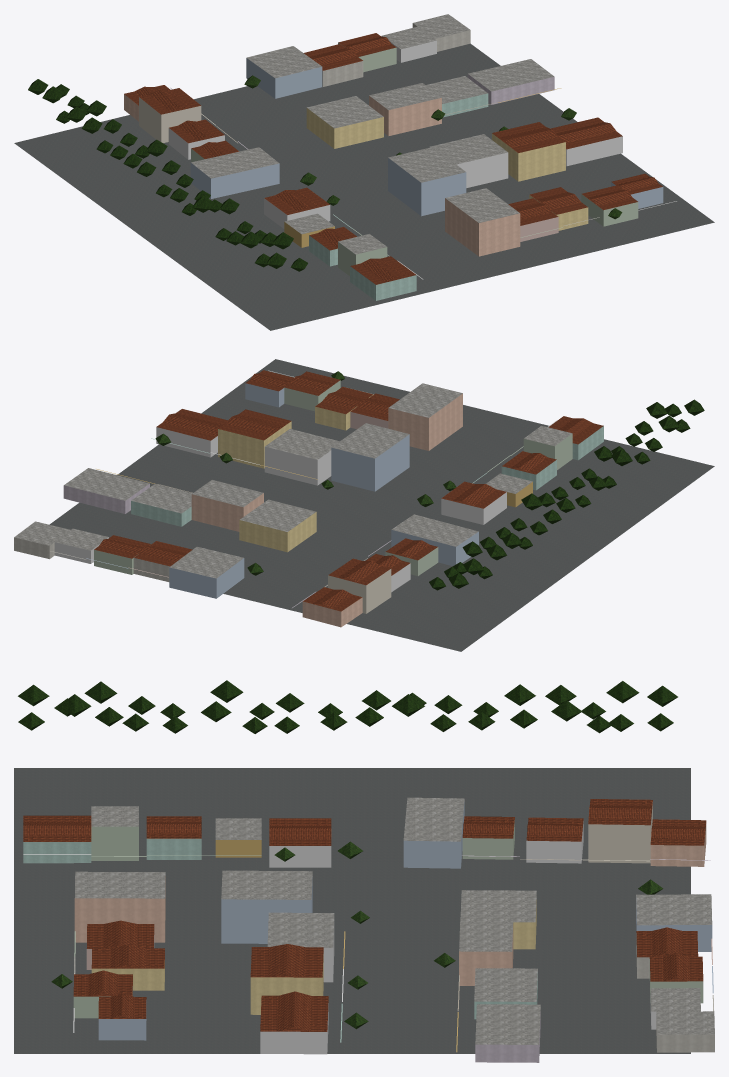
The model's file is cidade_S00_01_lod.gltf.
3 renders of one model, top to bottom at view 1: azimuth 30°, elevation 25°; view 2: azimuth 150°, elevation 25°; view 3: azimuth 270°, elevation 25°, orthographic. The views are drawn at different scales.
Visible parts, largest first — view 1: S00_01_Chao_LOD2, S00_01_Edificios_LOD1, S00_01_Silhueta_LOD2, S00_01_Vegetacao_LOD2; view 2: S00_01_Chao_LOD2, S00_01_Edificios_LOD1, S00_01_Silhueta_LOD2, S00_01_Vegetacao_LOD2; view 3: S00_01_Chao_LOD2, S00_01_Edificios_LOD1, S00_01_Silhueta_LOD2, S00_01_Vegetacao_LOD2.
Boxes of the visible parts, left/top/right/bottom form: S00_01_Chao_LOD2: left=14, top=43, right=714, bottom=330; S00_01_Edificios_LOD1: left=124, top=14, right=676, bottom=300; S00_01_Silhueta_LOD2: left=124, top=33, right=663, bottom=300; S00_01_Vegetacao_LOD2: left=28, top=75, right=622, bottom=271; S00_01_Chao_LOD2: left=49, top=359, right=714, bottom=651; S00_01_Edificios_LOD1: left=14, top=370, right=603, bottom=627; S00_01_Silhueta_LOD2: left=94, top=370, right=603, bottom=626; S00_01_Vegetacao_LOD2: left=155, top=371, right=704, bottom=590; S00_01_Chao_LOD2: left=14, top=768, right=690, bottom=1053; S00_01_Edificios_LOD1: left=23, top=797, right=714, bottom=1062; S00_01_Silhueta_LOD2: left=23, top=799, right=706, bottom=1054; S00_01_Vegetacao_LOD2: left=18, top=680, right=677, bottom=1029.
Bounding box in the file's own units: 103 × 15.78 × 104.
Materials: 17 (17 with a texture image).
